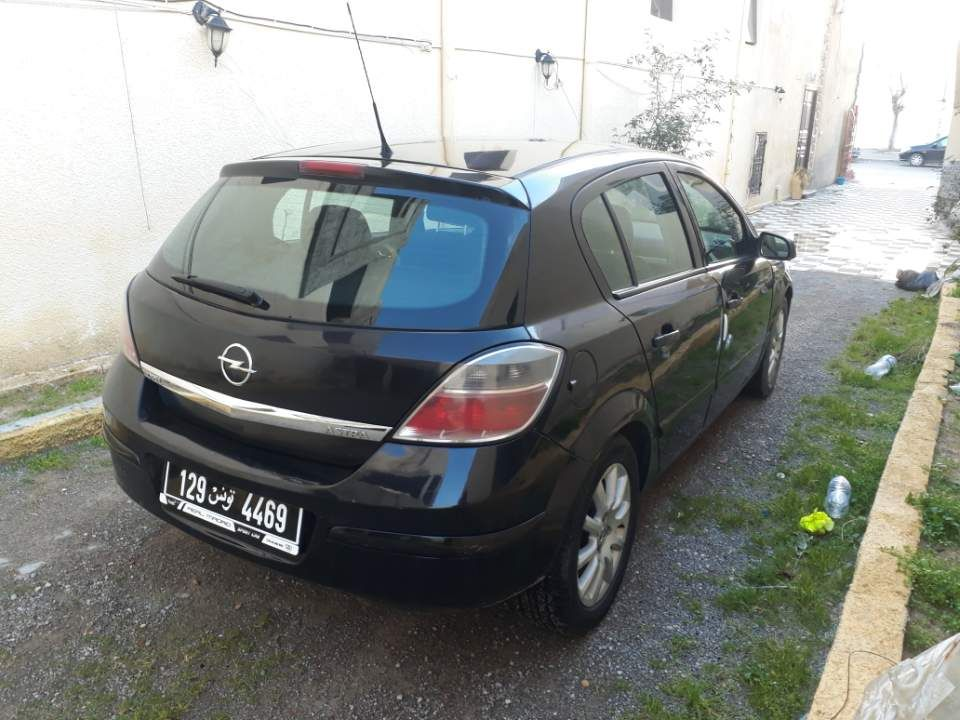LP: (161, 454, 307, 548)
